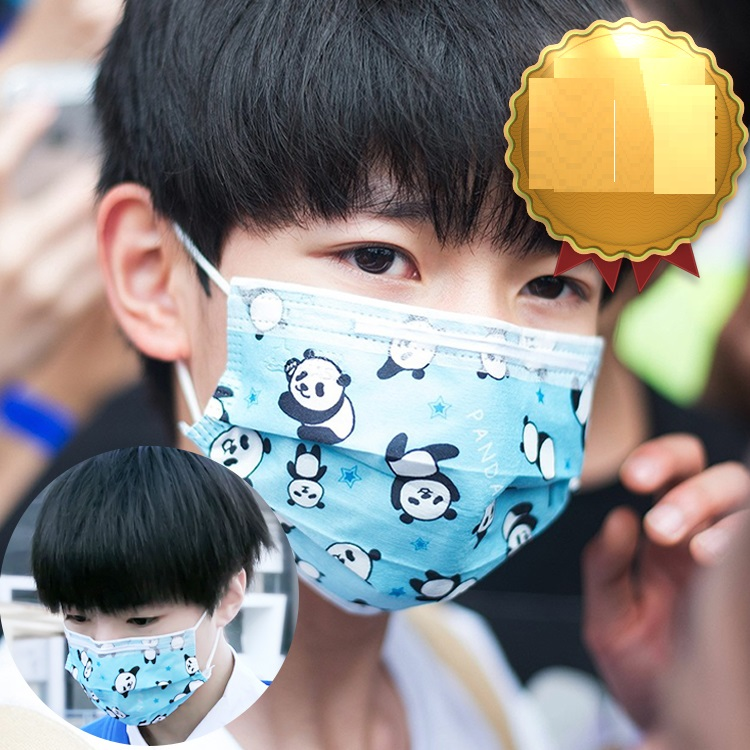face_mask: (215, 100, 613, 597), (56, 550, 206, 722)
